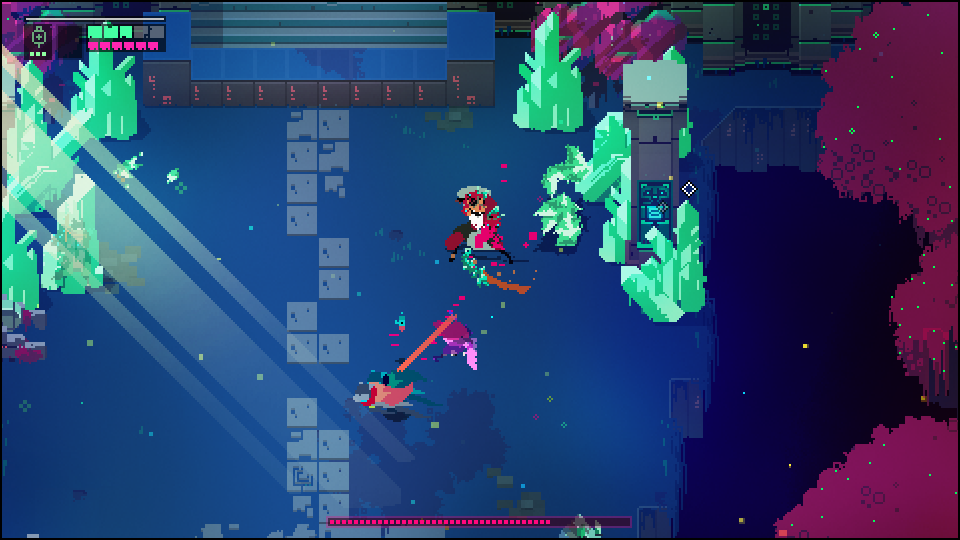hanged_man: (439, 179, 521, 296)
player: (351, 377, 419, 412)
